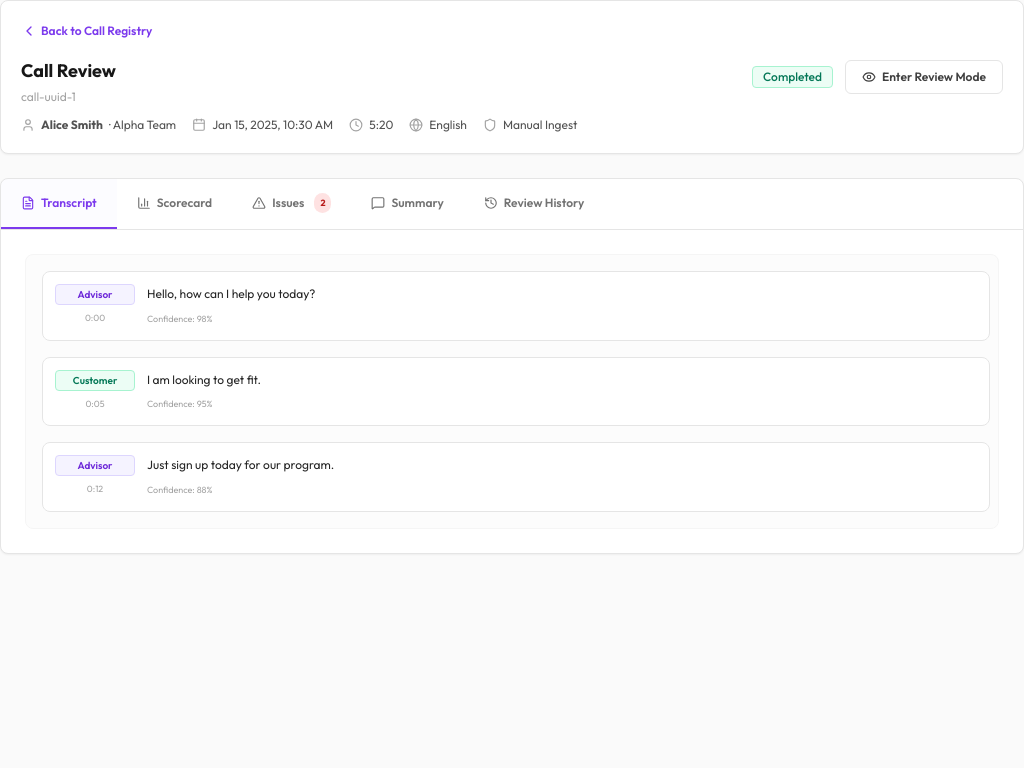
Test: Phase 3 — Call Operations & Review Tests › 19. Summary effective value renders on Summary tab
Expected: the text "Alice Smith" is shown, x1=41 y1=117 x2=103 y2=133
Click the button "Summary" at (408, 204), box x1=352 y1=179 x2=464 y2=229
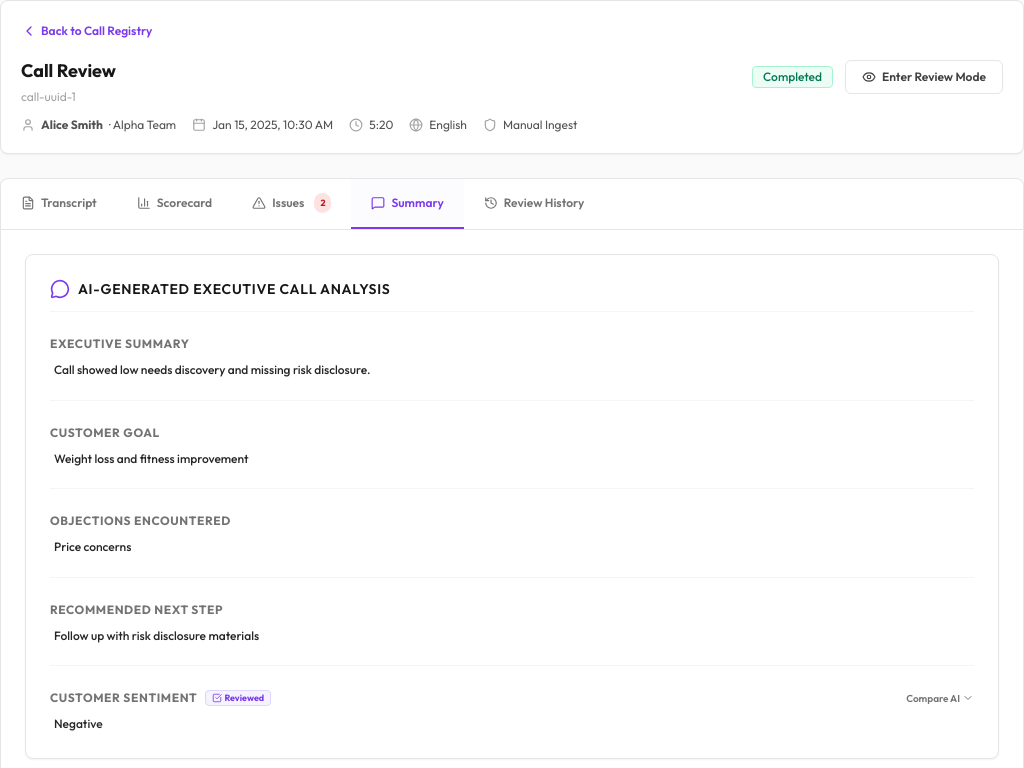
Expected: the text "Negative" is shown, x1=54 y1=716 x2=103 y2=731
